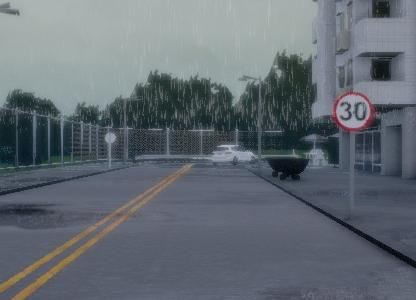Speed_30: (332, 95, 375, 132)
